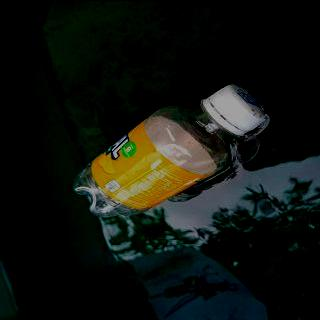bottle: (70, 81, 270, 217)
